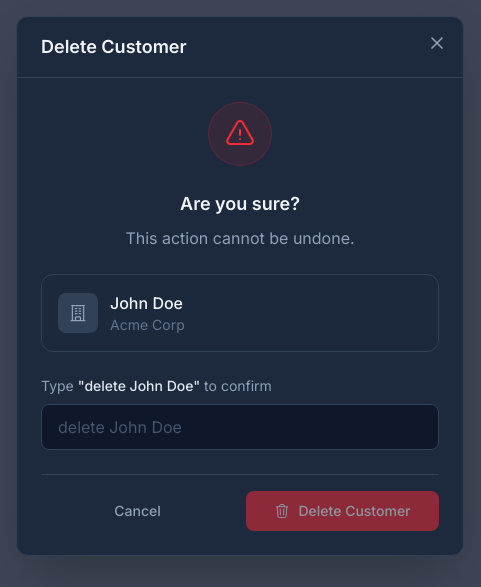
Test: DeleteCustomerDialog › handles case-insensitive confirmation text
Type "DELETE JOHN DOE" into the field with placeholder "delete John Doe" at (240, 427), box [41,404,439,450]
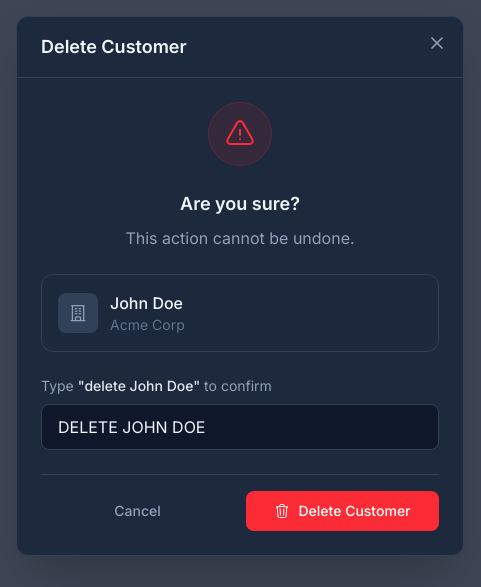
Check: the button "Delete Customer" is enabled, box [246,491,439,531]
